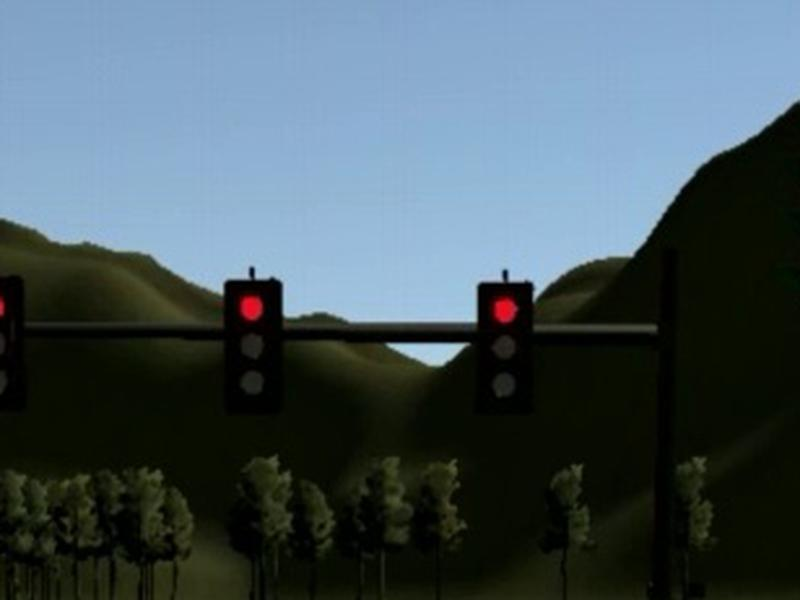Red: (222, 279, 283, 408), (474, 281, 534, 408), (1, 275, 26, 402)
